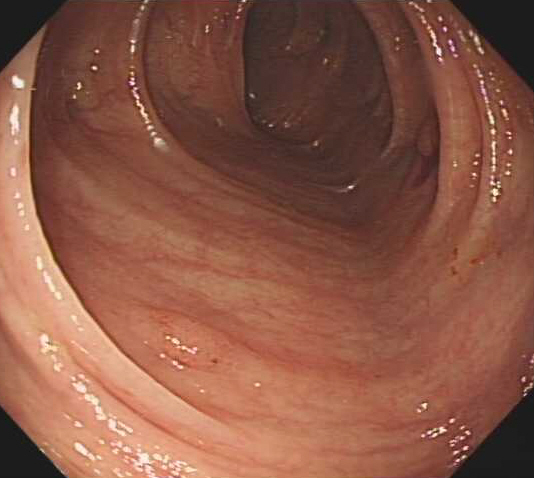others: (125, 304, 265, 380)
